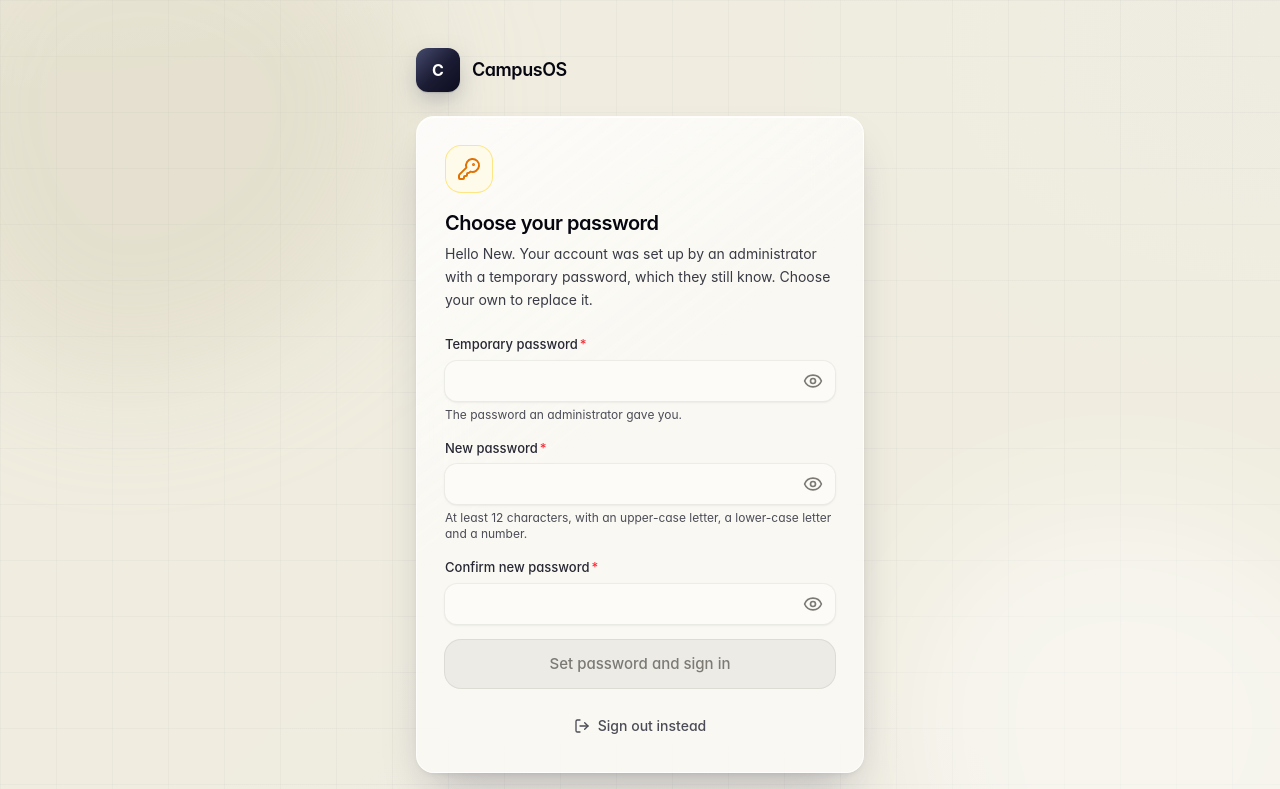
it: an account that owes a password change › says what a new password has to look like
Expected: the text "upper-case letter" is shown, [445,510,831,541]
Type "short" into the password field labelled "New password*" at (640, 484), box [445,464,835,504]
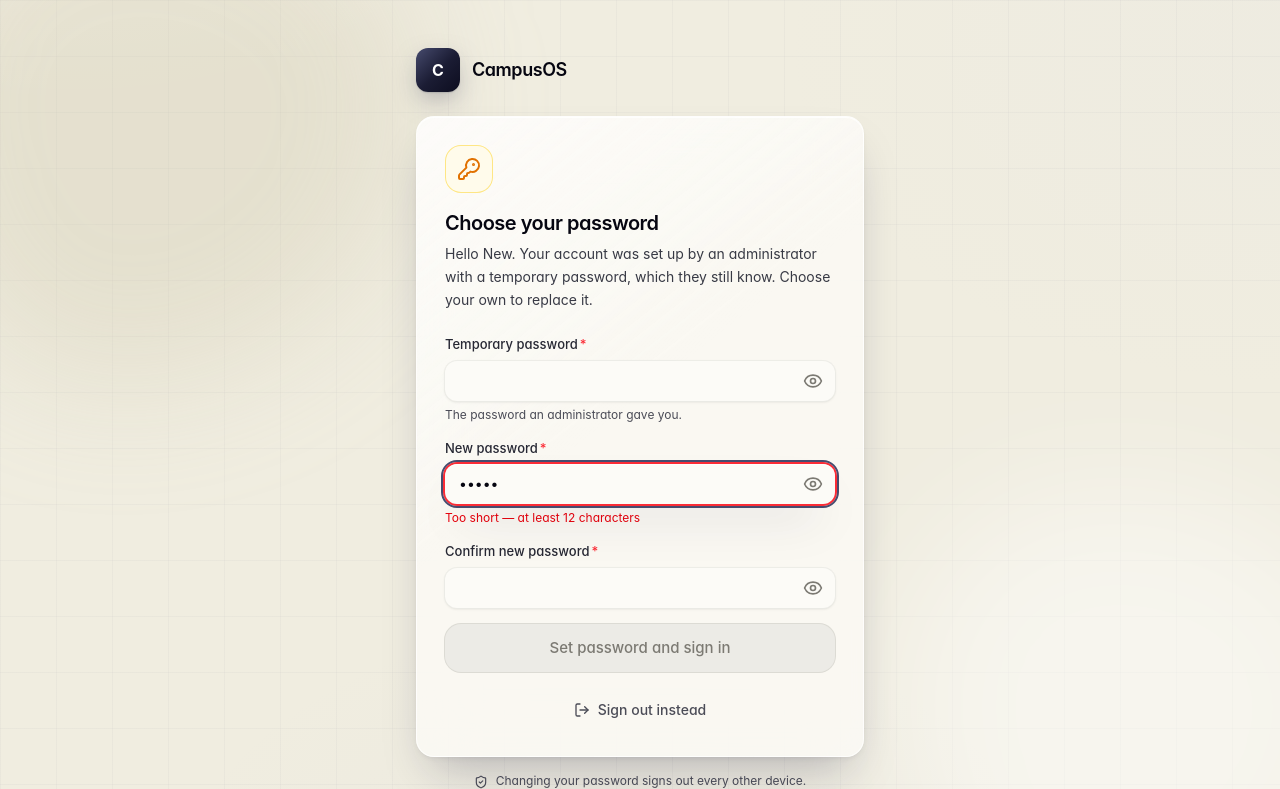
Expected: the text "Too short — at least 12 characters" is shown, [445,510,640,525]
